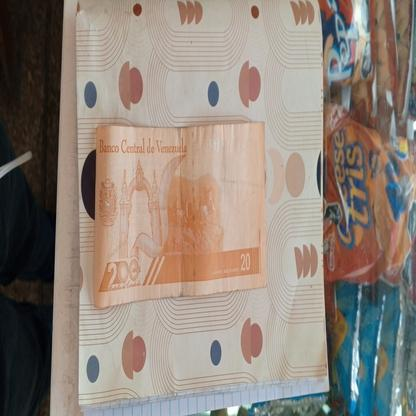twenty-back-vef: (93, 121, 266, 307)
